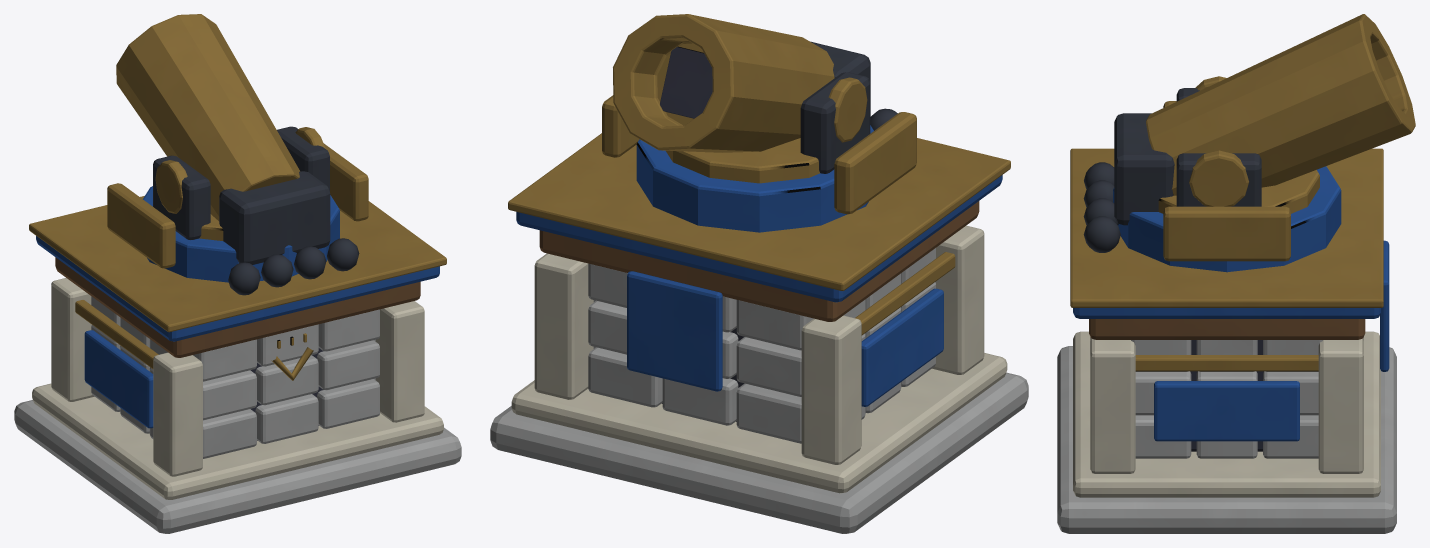
The model's file is cannon_tower_medium.glb.
The picture shows the model from 3 angles, left to right: view 1: azimuth 30°, elevation 25°; view 2: azimuth 150°, elevation 25°; view 3: azimuth 270°, elevation 25°; orthographic projection. The views are drawn at different scales.
Visible parts, largest first — view 1: cannon_tower_medium_surface; view 2: cannon_tower_medium_surface; view 3: cannon_tower_medium_surface.
Part boxes in pixels (left/top/right/bottom): cannon_tower_medium_surface: left=14, top=14, right=461, bottom=533; cannon_tower_medium_surface: left=490, top=14, right=1028, bottom=533; cannon_tower_medium_surface: left=1057, top=14, right=1415, bottom=533.
Size of the model in its own units: 1.48 by 1.81 by 1.35.
1 material, 1 textured.
